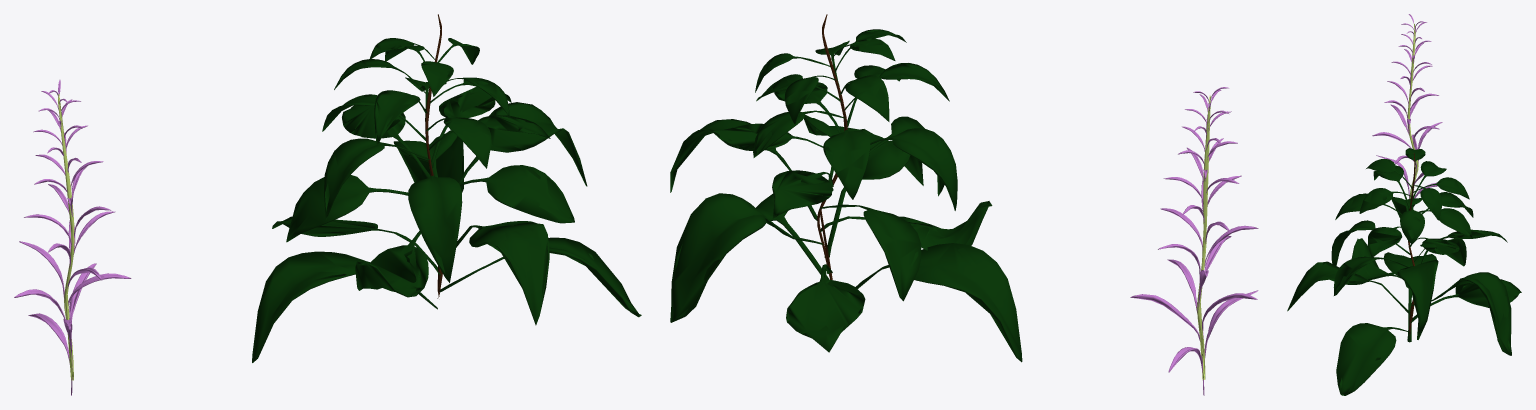
Rendered from leafPlants.obj.
The picture shows the model from 3 angles, left to right: view 1: azimuth 30°, elevation 25°; view 2: azimuth 150°, elevation 25°; view 3: azimuth 270°, elevation 25°; orthographic projection. The views are drawn at different scales.
Parts seen in each view (by area): view 1: stem_Circle.001; view 2: stem_Circle.001; view 3: stem_Circle.001.
Part boxes in pixels (x1,y1,x2,y2): stem_Circle.001: (14, 14, 641, 395); stem_Circle.001: (670, 14, 1258, 395); stem_Circle.001: (1287, 14, 1521, 395).
Bounding box in the file's own units: 18.73 × 9.97 × 10.06.
